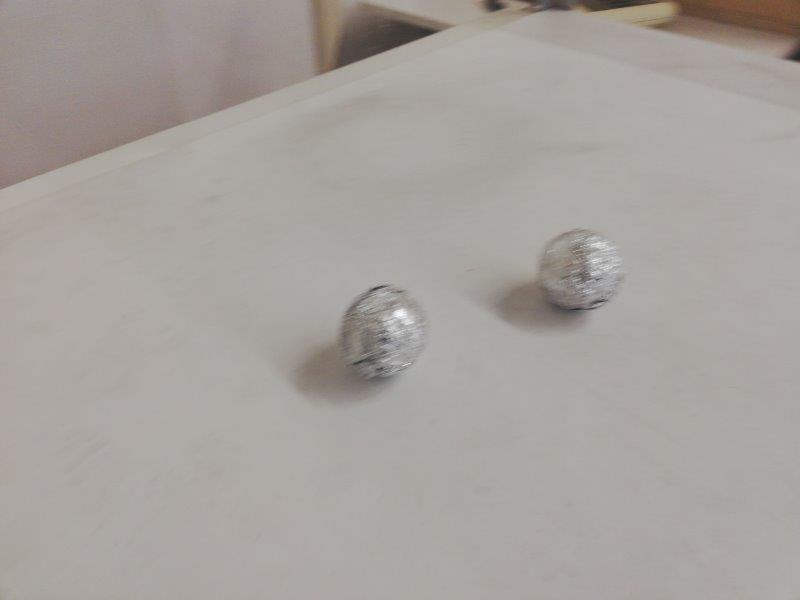bianca: (338, 282, 428, 379), (538, 227, 625, 313)
